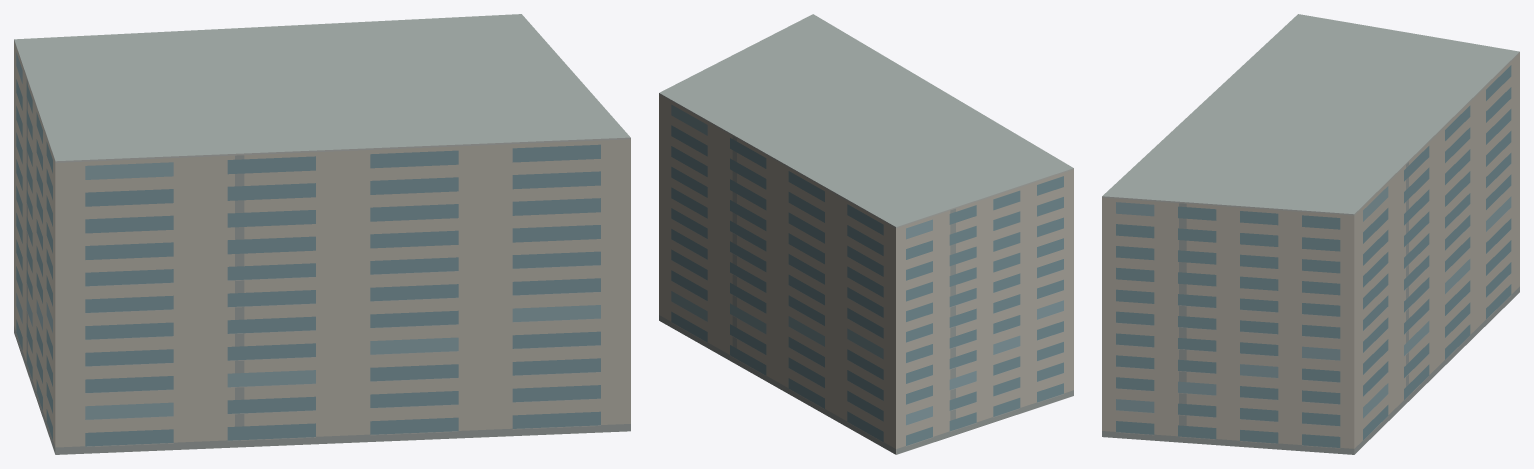
The model's file is residential-109f9139-9e0f-44bd-a863-4c4fc1075635.glb.
3 views of the same model, side by side, from view 1: azimuth 30°, elevation 25°; view 2: azimuth 150°, elevation 25°; view 3: azimuth 270°, elevation 25° (orthographic). The views are drawn at different scales.
Parts seen in each view (by area): view 1: residential-109f9139-9e0f-44bd-a863-4c4fc1075635.tmp; view 2: residential-109f9139-9e0f-44bd-a863-4c4fc1075635.tmp; view 3: residential-109f9139-9e0f-44bd-a863-4c4fc1075635.tmp.
Boxes of the visible parts, <box> form: residential-109f9139-9e0f-44bd-a863-4c4fc1075635.tmp: <box>14,14,630,454</box>; residential-109f9139-9e0f-44bd-a863-4c4fc1075635.tmp: <box>659,14,1073,454</box>; residential-109f9139-9e0f-44bd-a863-4c4fc1075635.tmp: <box>1102,14,1519,454</box>.
Bounding box in the file's own units: 74.92 × 42 × 66.07.
